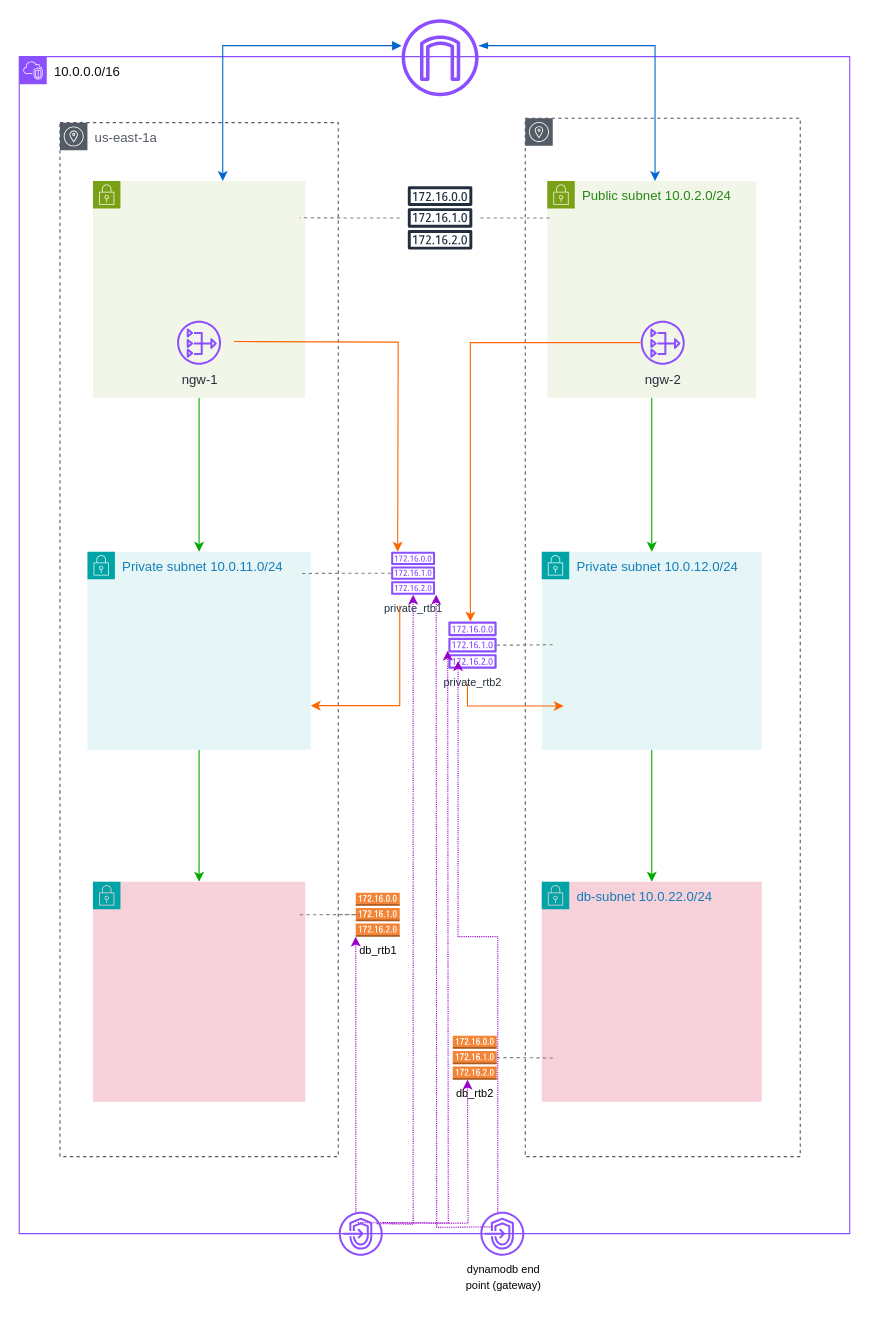
The diagram is 869 pixels wide and 1317 high, and some of its shapes have lost their labels. Each missing label, with the box of its shape:
db-subnet 10.0.21.0/24: (92, 881, 305, 1102)
igw: (401, 19, 478, 96)
Public subnet 10.0.1.0/24: (92, 180, 305, 398)
Public-rtb: (399, 177, 480, 258)
s3 endpoint (gateway): (338, 1211, 382, 1255)
us-east-1b: (524, 117, 800, 1157)
